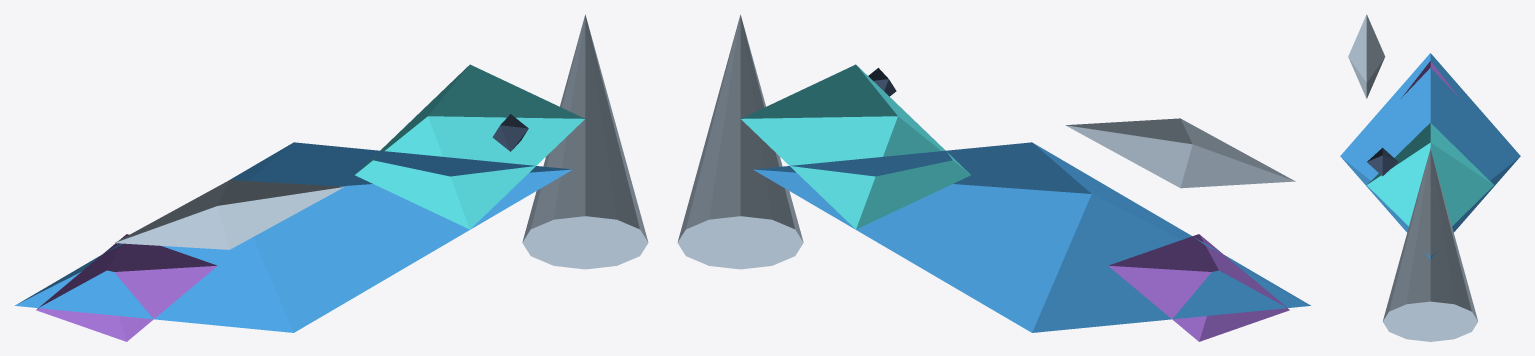
Rendered from minglora_dolphin.gltf.
The picture shows the model from 3 angles, left to right: view 1: azimuth 30°, elevation 25°; view 2: azimuth 150°, elevation 25°; view 3: azimuth 270°, elevation 25°; orthographic projection. The views are drawn at different scales.
Visible parts, largest first — view 1: minglora_dolphin_part_0, minglora_dolphin_part_1, minglora_dolphin_part_2, minglora_dolphin_part_4, minglora_dolphin_part_3, minglora_dolphin_part_5; view 2: minglora_dolphin_part_0, minglora_dolphin_part_1, minglora_dolphin_part_2, minglora_dolphin_part_4, minglora_dolphin_part_3; view 3: minglora_dolphin_part_0, minglora_dolphin_part_2, minglora_dolphin_part_1, minglora_dolphin_part_4, minglora_dolphin_part_5, minglora_dolphin_part_3.
Part boxes in pixels (box(x1,y1,x2,y2)): minglora_dolphin_part_0: box(15, 142, 572, 332); minglora_dolphin_part_1: box(355, 64, 584, 229); minglora_dolphin_part_2: box(522, 14, 648, 269); minglora_dolphin_part_4: box(115, 180, 344, 249); minglora_dolphin_part_3: box(36, 234, 217, 341); minglora_dolphin_part_5: box(492, 114, 528, 151); minglora_dolphin_part_0: box(753, 142, 1310, 332); minglora_dolphin_part_1: box(741, 64, 970, 229); minglora_dolphin_part_2: box(677, 14, 803, 269); minglora_dolphin_part_4: box(1065, 118, 1295, 188); minglora_dolphin_part_3: box(1108, 234, 1289, 341); minglora_dolphin_part_0: box(1340, 53, 1520, 258); minglora_dolphin_part_2: box(1382, 148, 1478, 341); minglora_dolphin_part_1: box(1367, 123, 1493, 226); minglora_dolphin_part_4: box(1348, 14, 1385, 98); minglora_dolphin_part_5: box(1367, 147, 1398, 176); minglora_dolphin_part_3: box(1401, 61, 1459, 98).
Bounding box in the file's own units: 2.06 × 0.78 × 0.68.
